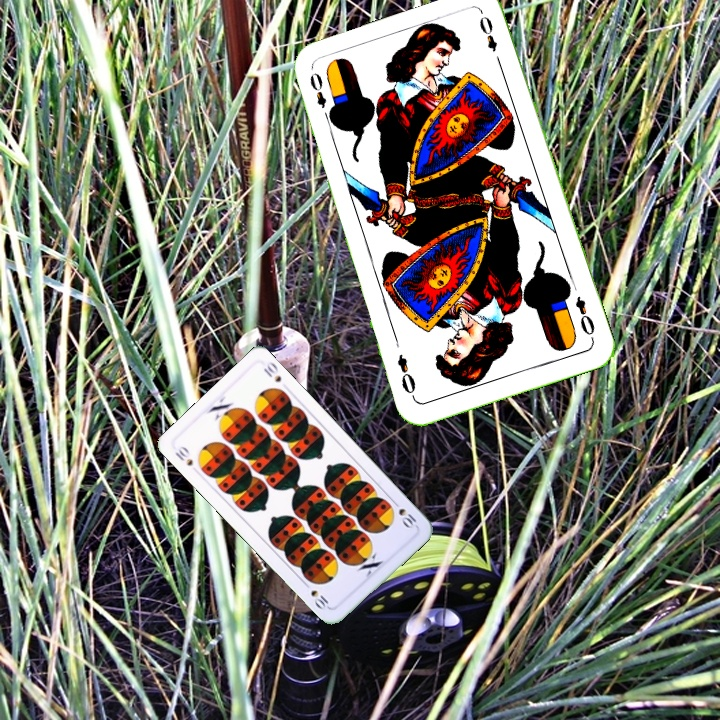EO: (571, 292, 598, 343), (305, 68, 329, 111)
S10: (388, 496, 419, 531), (171, 442, 196, 469)
